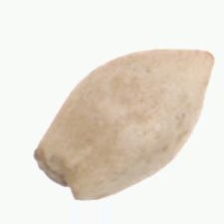L1: (31, 147, 78, 198), (189, 45, 215, 101)
L2: (32, 49, 211, 201)
